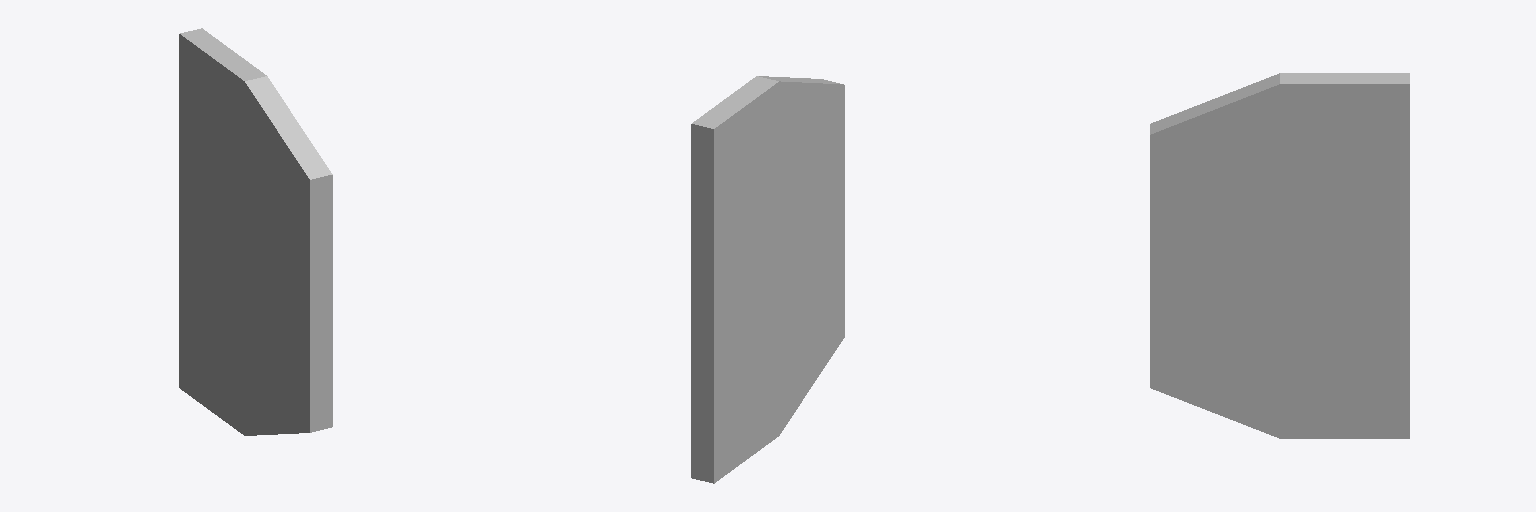
File: DoorLeft.obj
3 views of the same model, side by side, from view 1: azimuth 30°, elevation 25°; view 2: azimuth 150°, elevation 25°; view 3: azimuth 270°, elevation 25° (orthographic).
Parts seen in each view (by area): view 1: DoorLeft_low_Cube.036; view 2: DoorLeft_low_Cube.036; view 3: DoorLeft_low_Cube.036.
Boxes of the visible parts, x1=… form: DoorLeft_low_Cube.036: x1=179, y1=28, x2=332, y2=435; DoorLeft_low_Cube.036: x1=691, y1=76, x2=844, y2=483; DoorLeft_low_Cube.036: x1=1150, y1=73, x2=1409, y2=438.
Size of the model in its own units: 0.2 by 3 by 2.